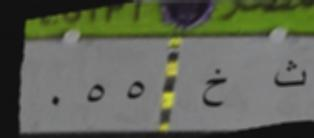0: (43, 90, 66, 108)
5: (79, 76, 108, 110), (123, 75, 149, 107)
khaa: (197, 66, 232, 112)
thaa: (271, 55, 308, 94)
